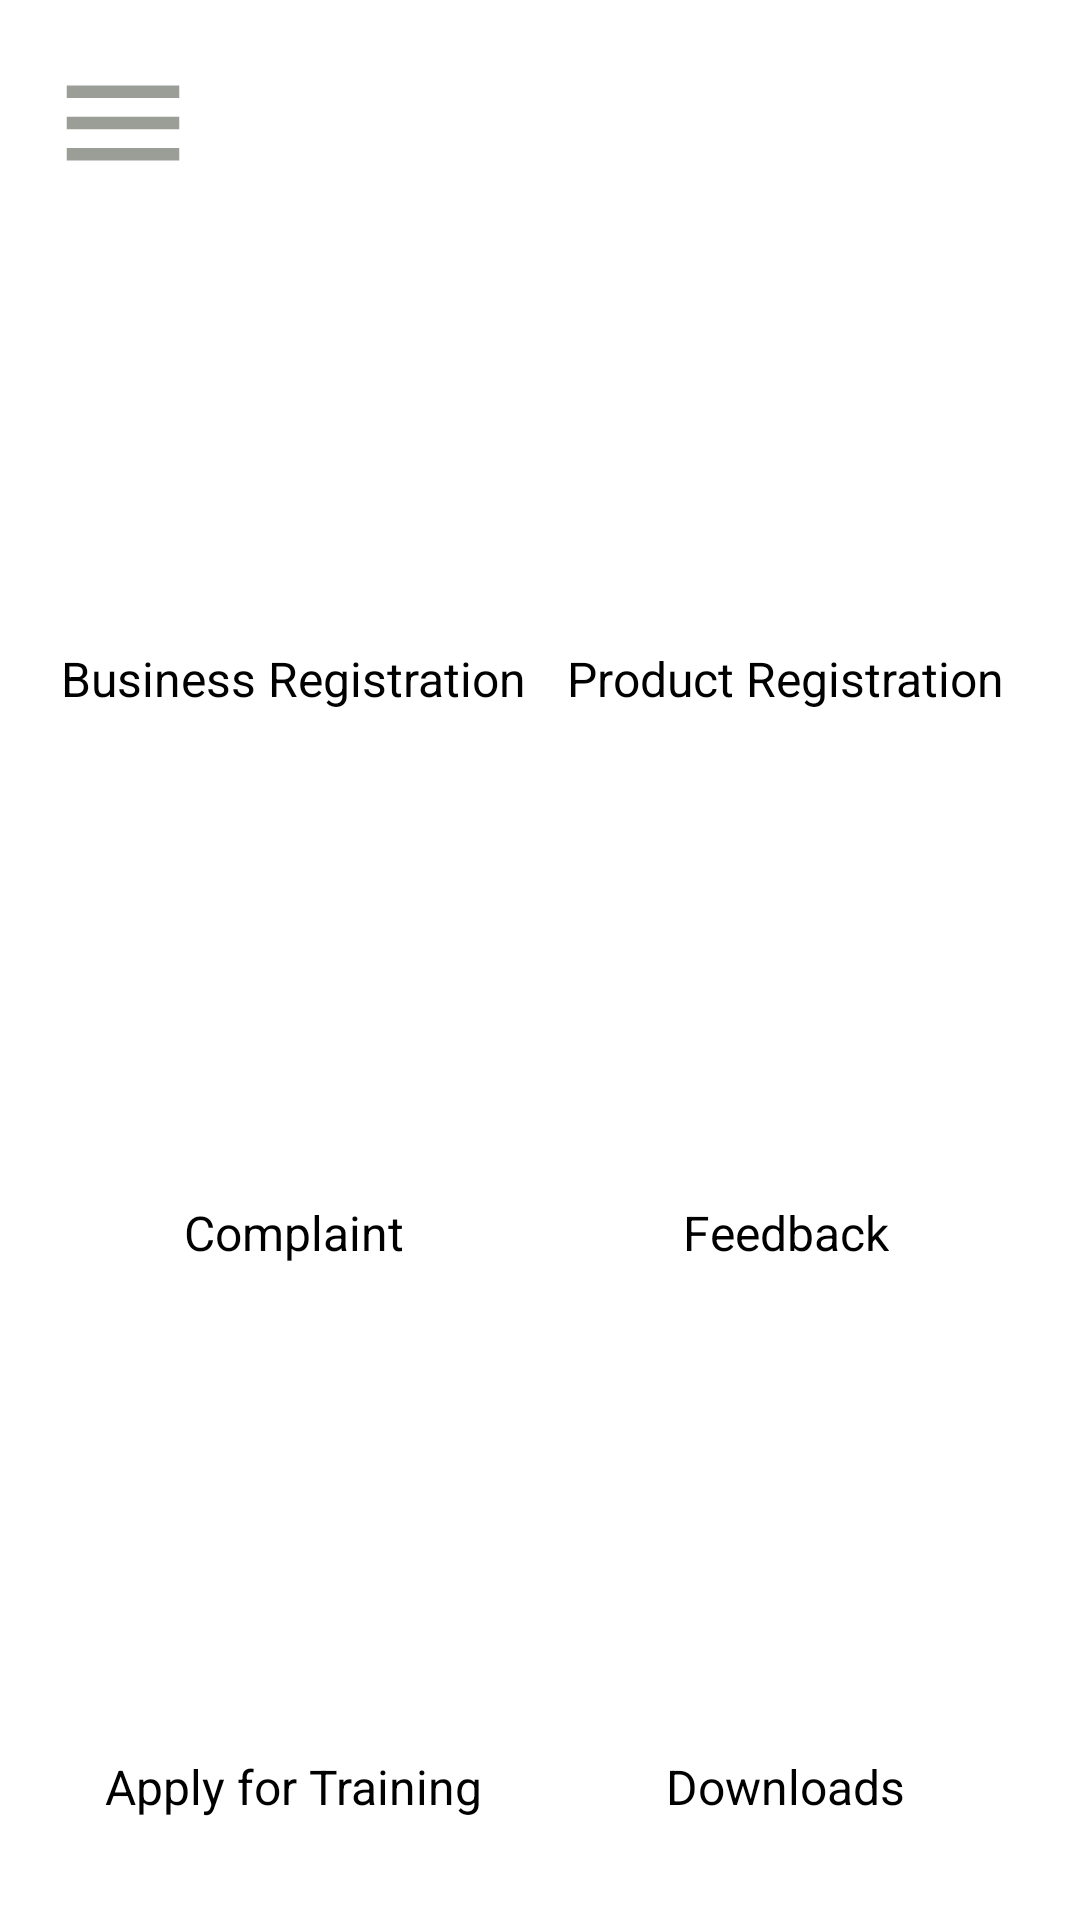

Point at icon controls on the screen. Image size 1080px x 1920px, points as [x,y].
menu: [123,123]
